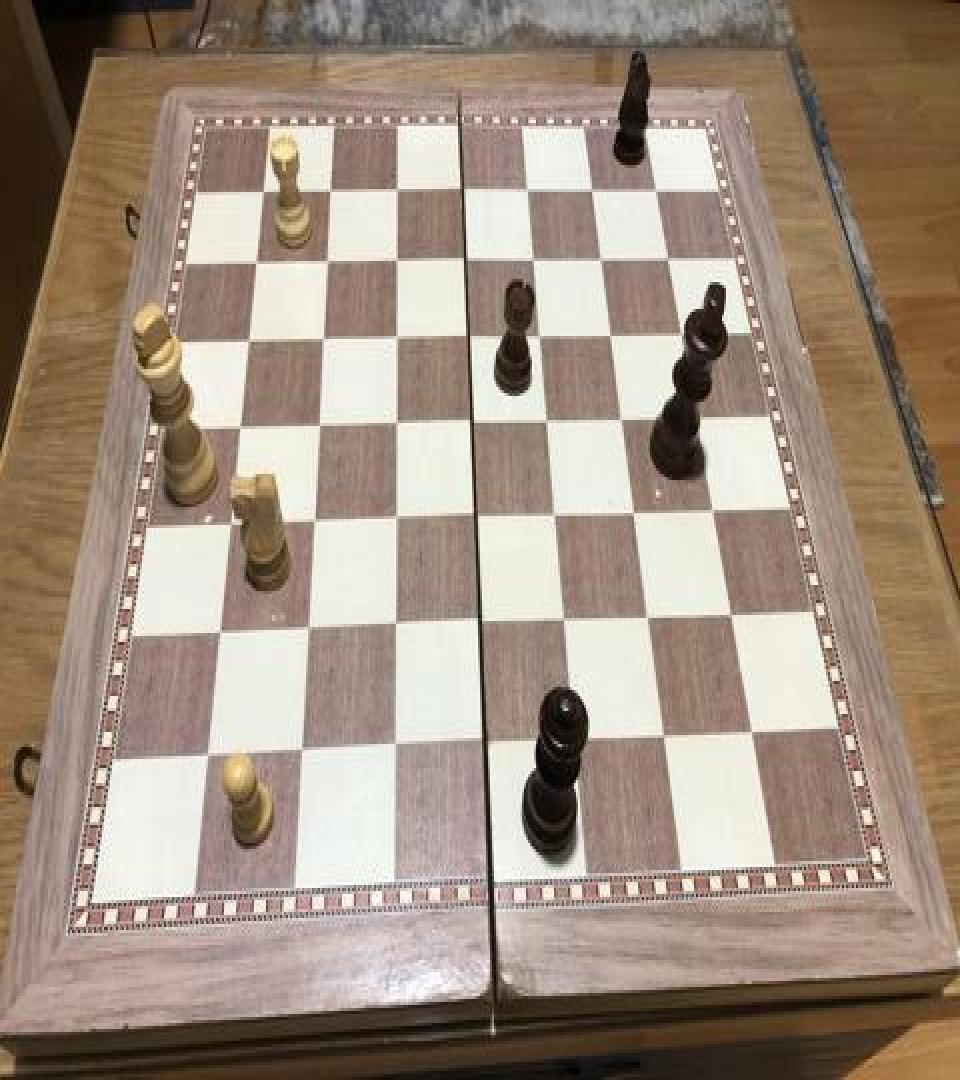xcorner: (639, 595, 663, 632), (208, 616, 232, 653), (654, 712, 678, 749), (566, 718, 590, 755), (647, 168, 671, 204), (583, 168, 607, 204), (519, 170, 543, 206), (453, 170, 477, 206), (387, 171, 411, 207), (320, 171, 344, 207), (252, 171, 276, 207), (659, 237, 683, 273), (592, 237, 616, 273), (525, 238, 549, 274), (456, 240, 480, 276), (387, 240, 411, 276), (316, 242, 340, 278), (245, 243, 269, 279), (672, 312, 696, 348), (602, 314, 626, 350), (531, 315, 555, 351), (459, 316, 483, 352), (386, 318, 410, 354), (312, 320, 336, 356), (238, 322, 262, 358), (687, 394, 711, 430), (613, 398, 637, 434), (538, 399, 562, 435), (463, 402, 487, 438), (386, 405, 410, 441), (308, 406, 332, 442), (229, 410, 253, 446), (703, 488, 727, 524), (625, 490, 649, 526), (546, 494, 570, 530), (466, 496, 490, 532), (385, 501, 409, 537), (303, 504, 327, 540), (219, 507, 243, 543), (721, 591, 745, 627), (555, 600, 579, 636), (471, 603, 495, 639), (384, 608, 408, 644), (297, 612, 321, 648), (742, 708, 766, 744), (475, 724, 499, 760), (384, 729, 408, 765), (291, 735, 315, 771), (196, 741, 220, 777)
